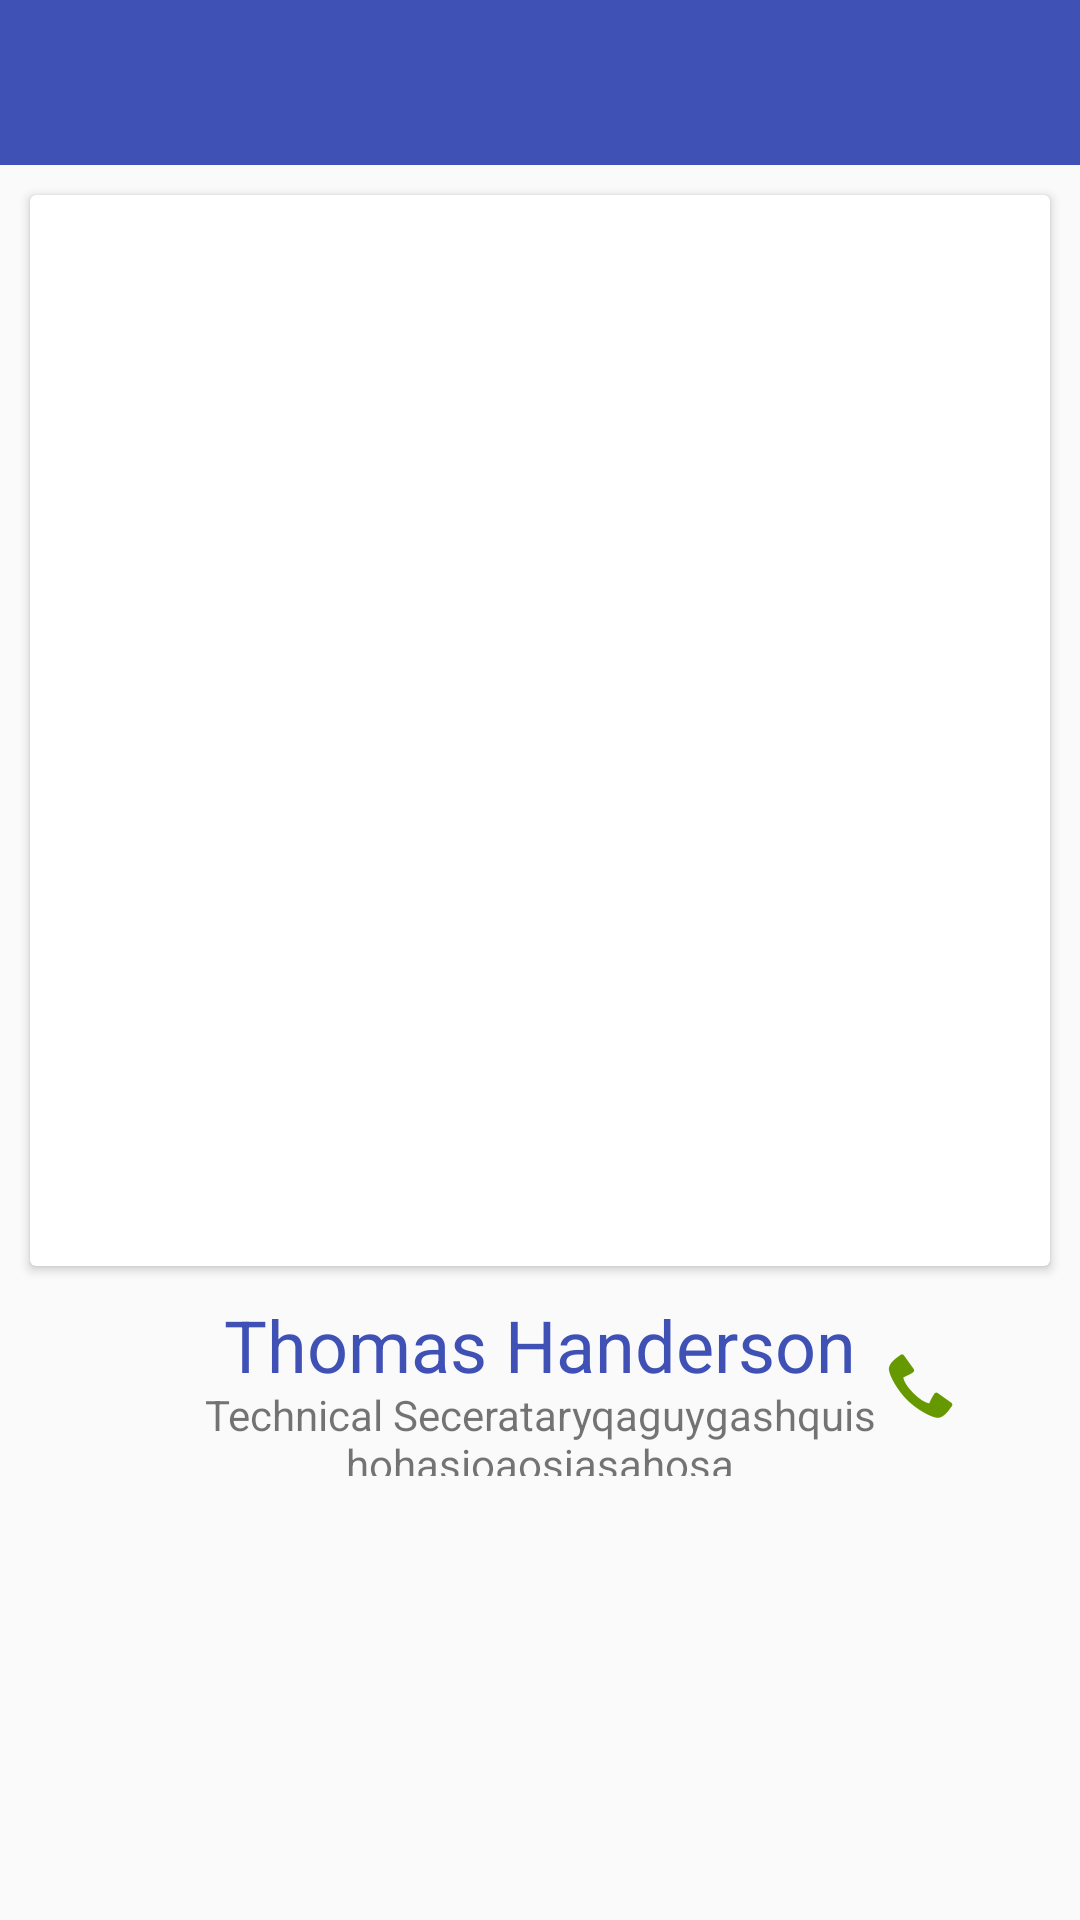

Icons on this 1080x1920 Android screen, each with the point to tap as [x,y]:
phone call: [921,1386]
